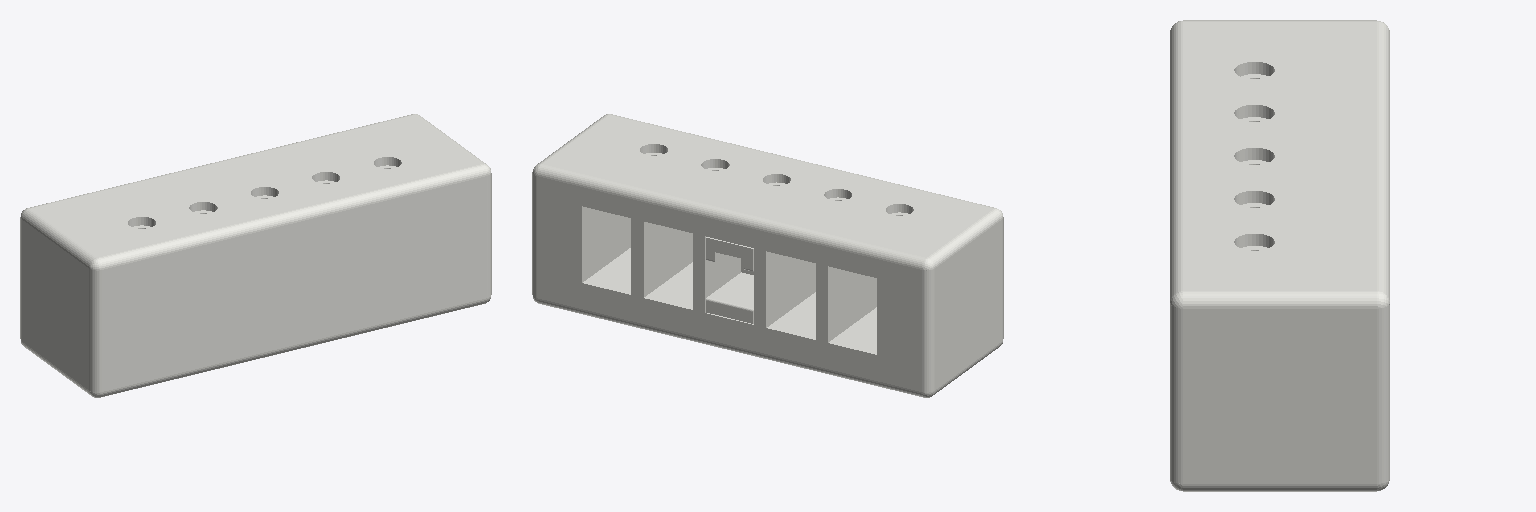
URDF robot description (cb_ethernet_slot):
<?xml version="1.0"?>
<!-- ContactBench ethernet_slot. Generated by FoundationTouch tools/contactbench/make_contactbench_assets.py -->
<robot name="cb_ethernet_slot">
  <material name="c"><color rgba="0.92 0.92 0.90 1.0"/></material>
  <link name="receptive">
    <visual><origin xyz="0 0 0" rpy="0 0 0"/><geometry><mesh filename="ethernet_slot.obj" scale="1 1 1"/></geometry><material name="c"/></visual>
    <collision><origin xyz="0 0 0" rpy="0 0 0"/><geometry><mesh filename="ethernet_slot.obj" scale="1 1 1"/></geometry><sdf resolution="256"/></collision>
  </link>
</robot>

--- Render facts (derived) ---
The picture shows the robot from 3 angles, left to right: view 1: azimuth 30°, elevation 25°; view 2: azimuth 150°, elevation 25°; view 3: azimuth 270°, elevation 25°; orthographic projection.
Model cb_ethernet_slot with 1 links and 0 joints (none), rooted at receptive, posed every joint at zero.
Visible links, largest first — view 1: receptive; view 2: receptive; view 3: receptive.
Link boxes in pixels (bbox=[...]): receptive: bbox=[20, 114, 491, 397]; receptive: bbox=[532, 114, 1003, 397]; receptive: bbox=[1170, 20, 1389, 491].
Bounding box of the posed robot: 0.098 × 0.0325 × 0.0325 m (x, y, z).
Meshes: 1 distinct files referenced, 1 mesh visuals loaded (1 OBJ).
